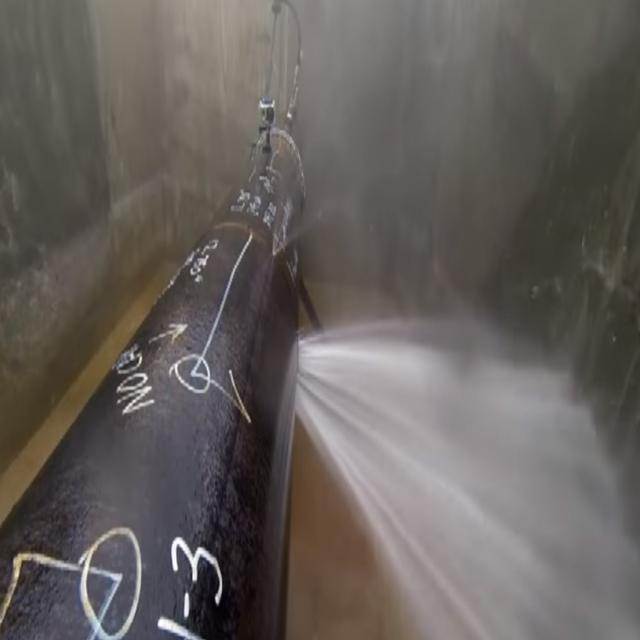leak: (295, 334, 640, 640)
